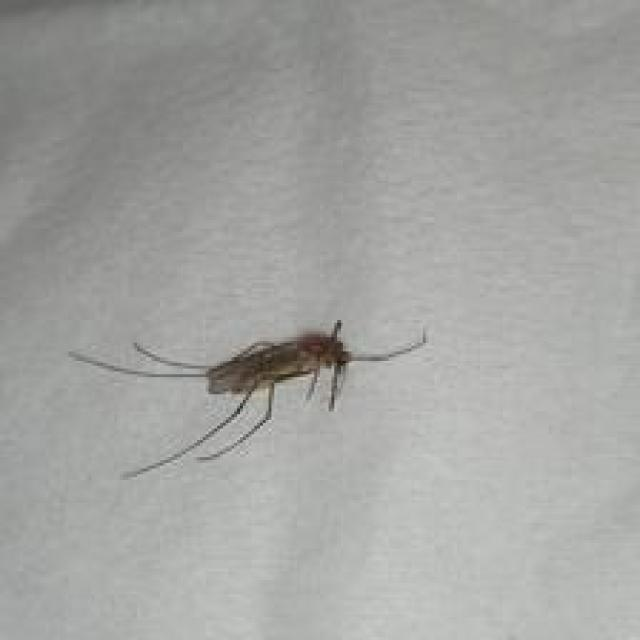Culex: (67, 317, 430, 480)
